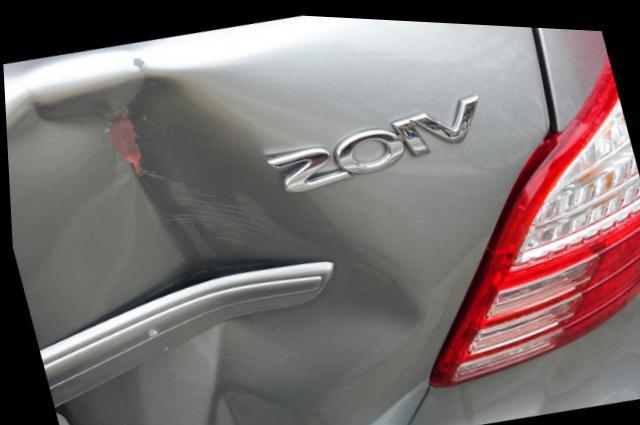dent: (4, 61, 407, 425)
